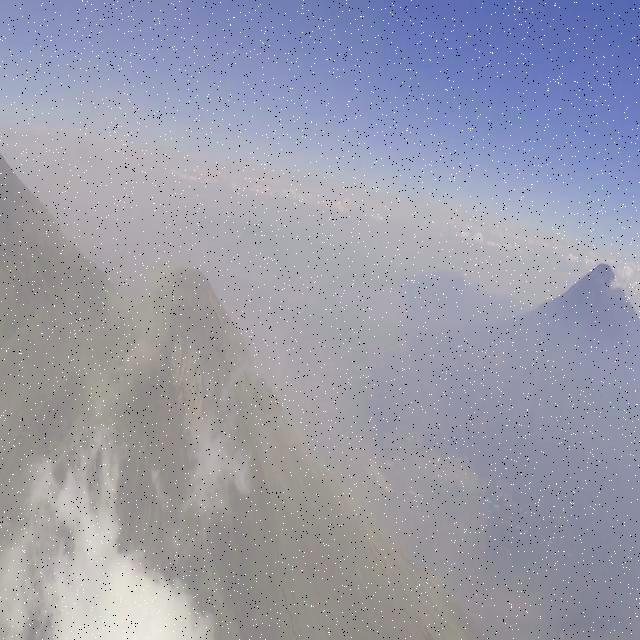Summit: (102, 254, 290, 443)
